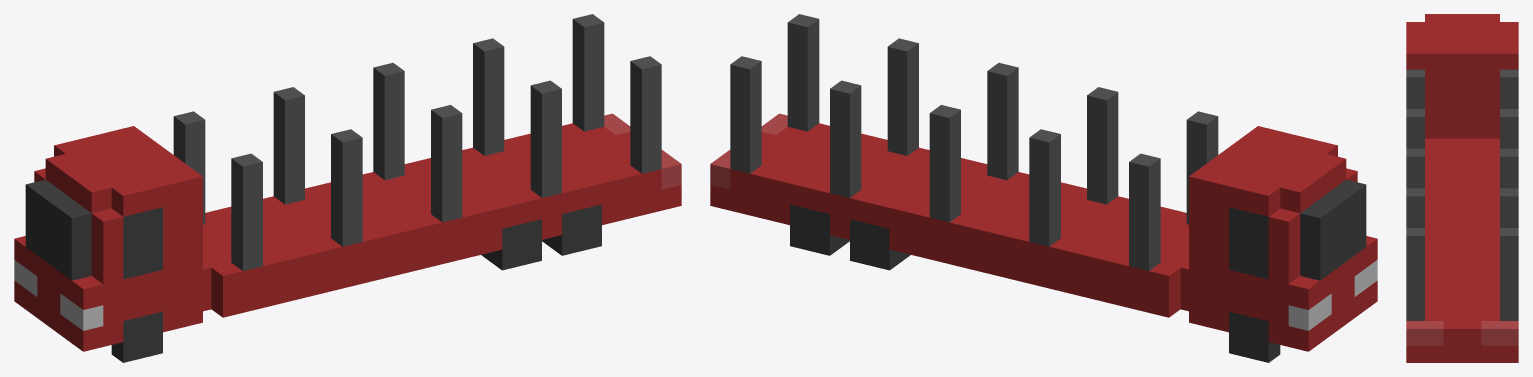
The model's file is truck-v5-red.gltf.
The picture shows the model from 3 angles, left to right: view 1: azimuth 30°, elevation 25°; view 2: azimuth 150°, elevation 25°; view 3: azimuth 270°, elevation 25°; orthographic projection. The views are drawn at different scales.
Visible parts, largest first — view 1: model, wheels; view 2: model, wheels; view 3: model.
Boxes of the visible parts, box(x1,y1,x2,y2) form: model: box(14, 14, 681, 351); wheels: box(111, 204, 601, 362); model: box(710, 14, 1377, 351); wheels: box(790, 204, 1280, 362); model: box(1406, 14, 1518, 362).
Bounding box in the file's own units: 3 × 0.8 × 0.6.
Materials: 2 (2 with a texture image).
